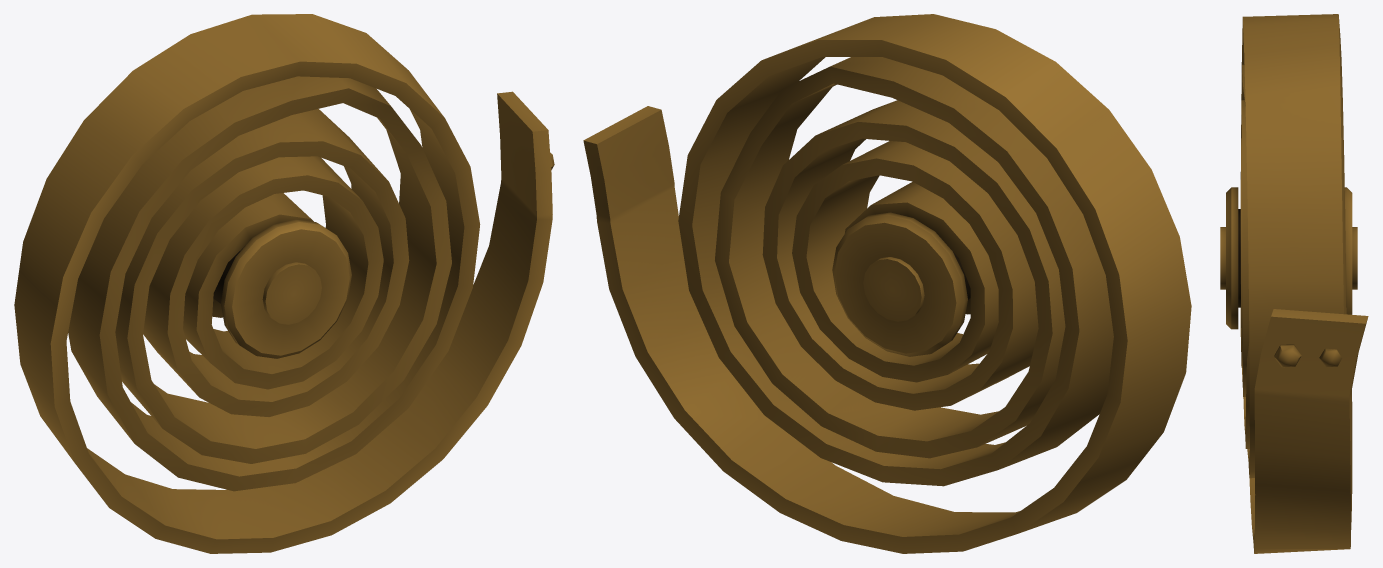
File: spring_worn.glb
3 views of the same model, side by side, from view 1: azimuth 30°, elevation 25°; view 2: azimuth 150°, elevation 25°; view 3: azimuth 270°, elevation 25° (orthographic). The views are drawn at different scales.
Visible parts, largest first — view 1: Spring_Worn; view 2: Spring_Worn; view 3: Spring_Worn.
Part boxes in pixels (x1,y1,x2,y2): Spring_Worn: (14,14,554,553); Spring_Worn: (583,14,1191,553); Spring_Worn: (1220,14,1368,553).
Bounding box in the file's own units: 0.0428 × 0.0388 × 0.0108.
